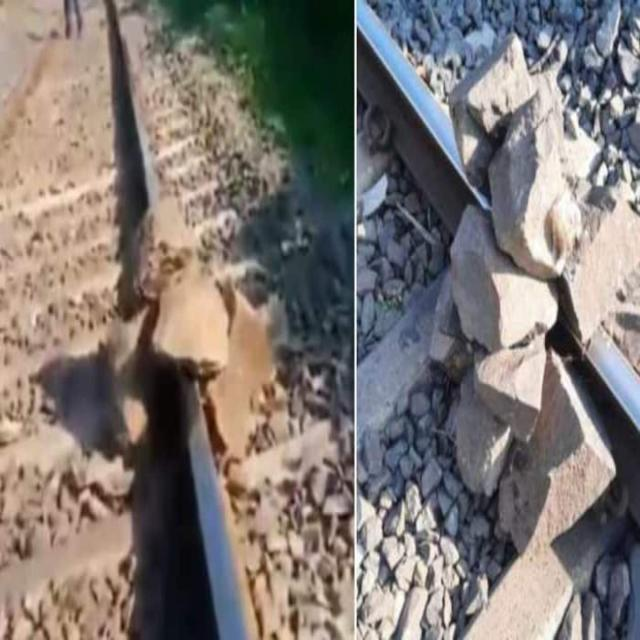Stone: (429, 62, 609, 634), (107, 184, 283, 476)
